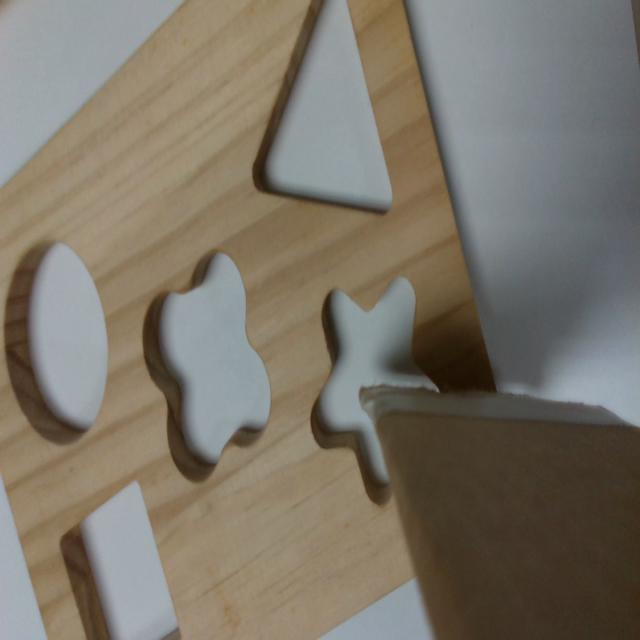circle: (4, 240, 110, 450)
flower: (138, 251, 272, 487)
square: (58, 479, 182, 637)
star: (313, 276, 440, 504)
triangle: (248, 4, 396, 216)
